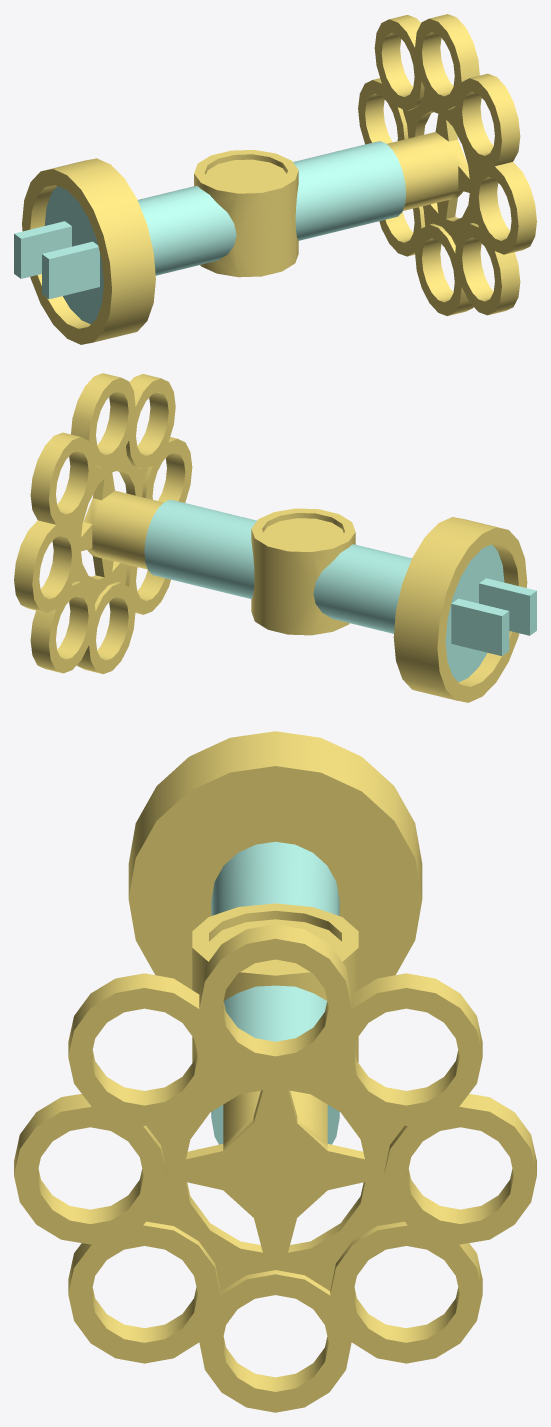
File: BubbleBlaster.fbx
The picture shows the model from 3 angles, top to bottom: view 1: azimuth 30°, elevation 25°; view 2: azimuth 150°, elevation 25°; view 3: azimuth 270°, elevation 25°; orthographic projection. The views are drawn at different scales.
Parts seen in each view (by area): view 1: bubbleAxel, bubbleHead, bubbleAxel1; view 2: bubbleAxel, bubbleHead, bubbleAxel1; view 3: bubbleHead, bubbleAxel, bubbleAxel1.
Boxes of the visible parts, x1=… form: bubbleAxel: x1=14, y1=150, x2=298, y2=344; bubbleHead: x1=358, y1=14, x2=536, y2=316; bubbleAxel1: x1=293, y1=141, x2=405, y2=240; bubbleAxel: x1=251, y1=508, x2=536, y2=702; bubbleHead: x1=14, y1=373, x2=192, y2=674; bubbleAxel1: x1=144, y1=499, x2=256, y2=598; bubbleHead: x1=14, y1=924, x2=536, y2=1412; bubbleAxel: x1=128, y1=731, x2=422, y2=1062; bubbleAxel1: x1=211, y1=985, x2=339, y2=1144.
Size of the model in its own units: 4.69 by 3.06 by 3.06.
